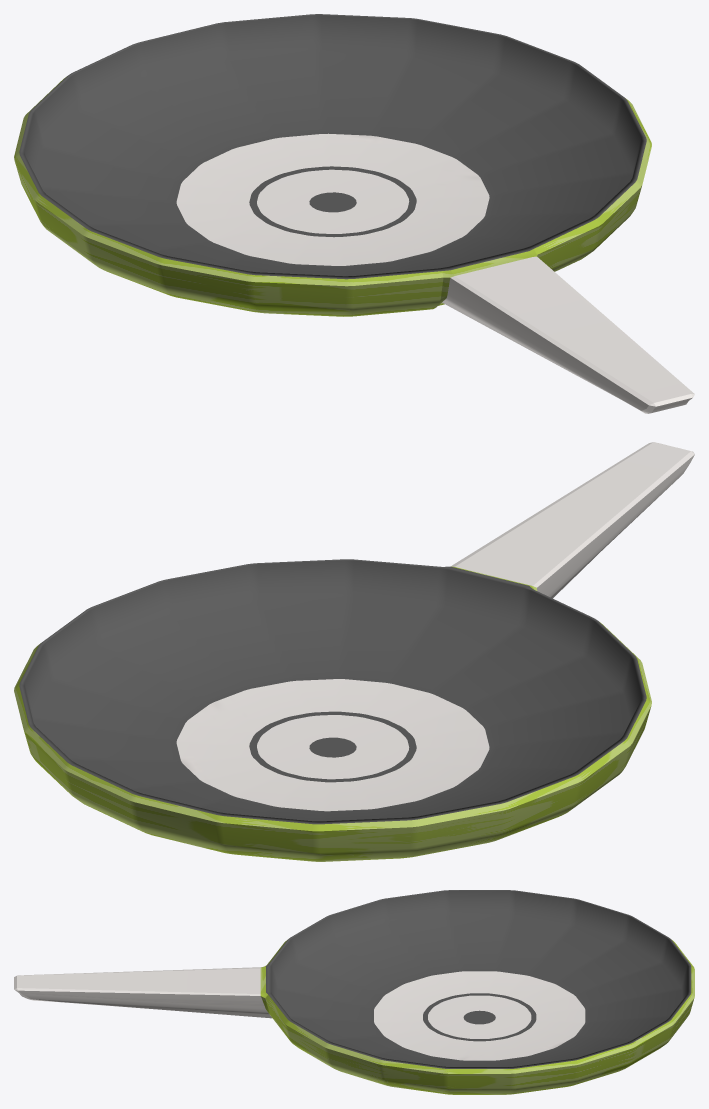
The model's file is frying pan.fbx.
3 renders of one model, top to bottom at view 1: azimuth 30°, elevation 25°; view 2: azimuth 150°, elevation 25°; view 3: azimuth 270°, elevation 25°, orthographic. The views are drawn at different scales.
Parts seen in each view (by area): view 1: pCylinder11; view 2: pCylinder11; view 3: pCylinder11.
Boxes of the visible parts, x1,y1,x2,y2 form: pCylinder11: (14, 14, 694, 413); pCylinder11: (14, 442, 694, 861); pCylinder11: (14, 890, 694, 1094).
Bounding box in the file's own units: 3.98 × 0.4382 × 6.3.
